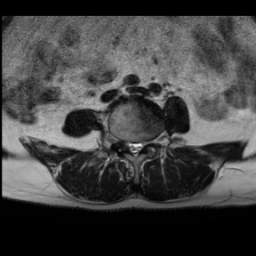CCS_normal: (131, 135, 138, 160)
LFS_severe_stenosis: (146, 133, 152, 152)
LLS_stenosis: (138, 135, 146, 158)
RFS_severe_stenosis: (119, 133, 127, 150)
RLS_stenosis: (126, 135, 131, 157)
